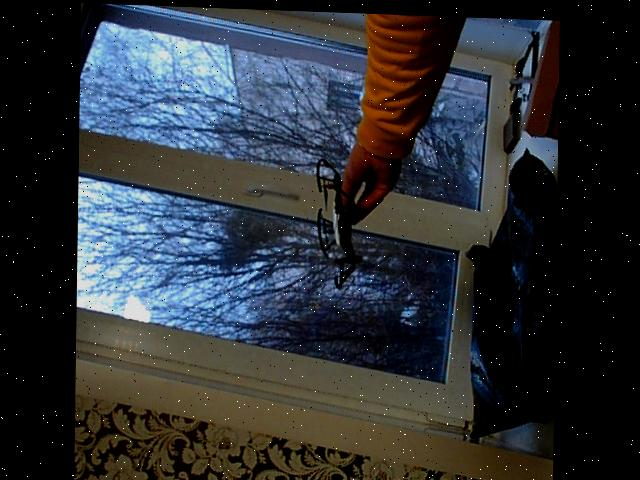drone: (301, 143, 374, 292)
